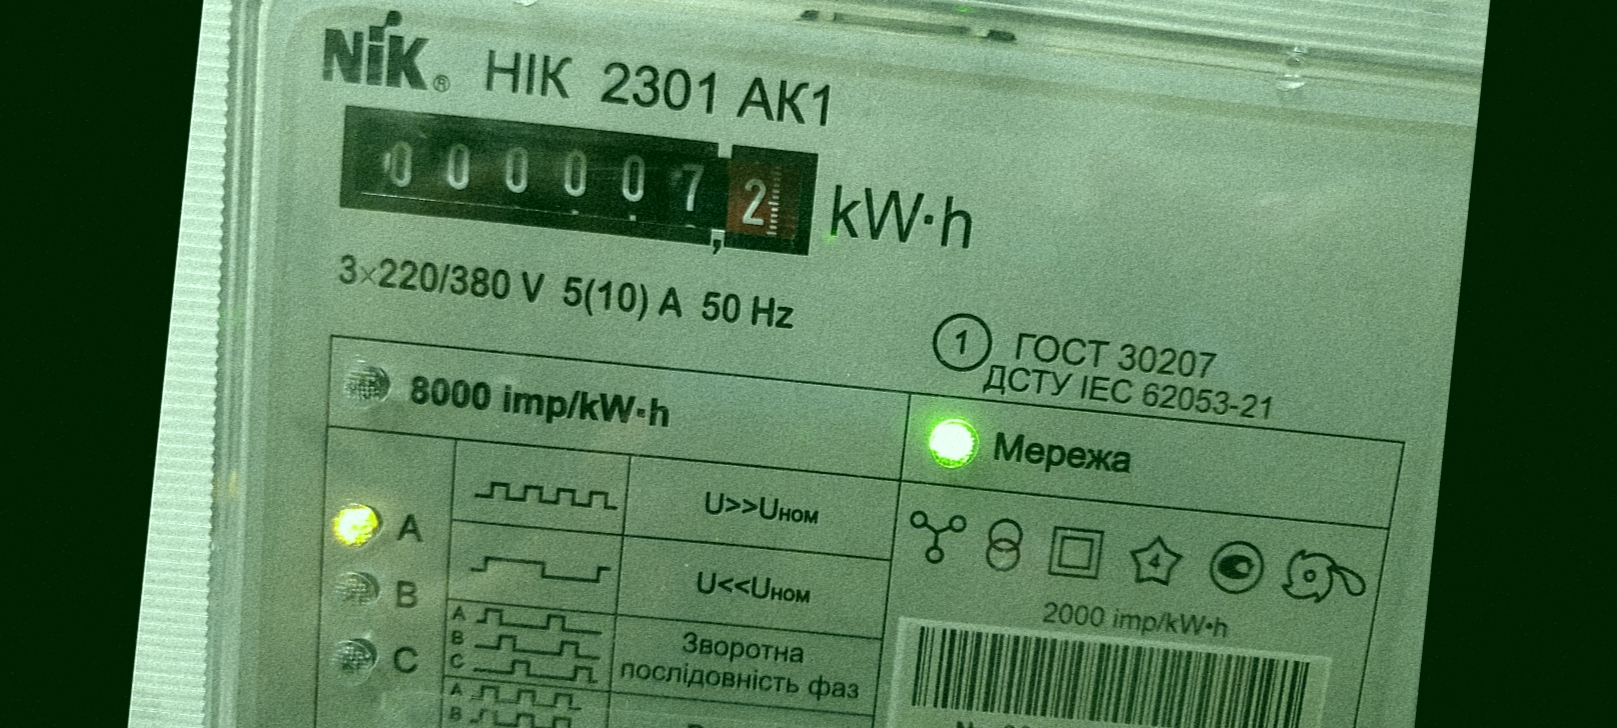0: (616, 148, 653, 205), (440, 136, 478, 191), (558, 143, 594, 199), (383, 135, 420, 189), (500, 140, 536, 195)
2: (737, 174, 773, 227)
7: (674, 157, 709, 214)
screen: (316, 82, 841, 276)
